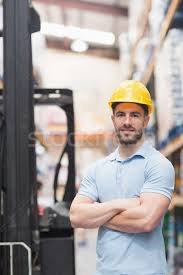Person_wearing_helmet: (102, 74, 164, 126)
